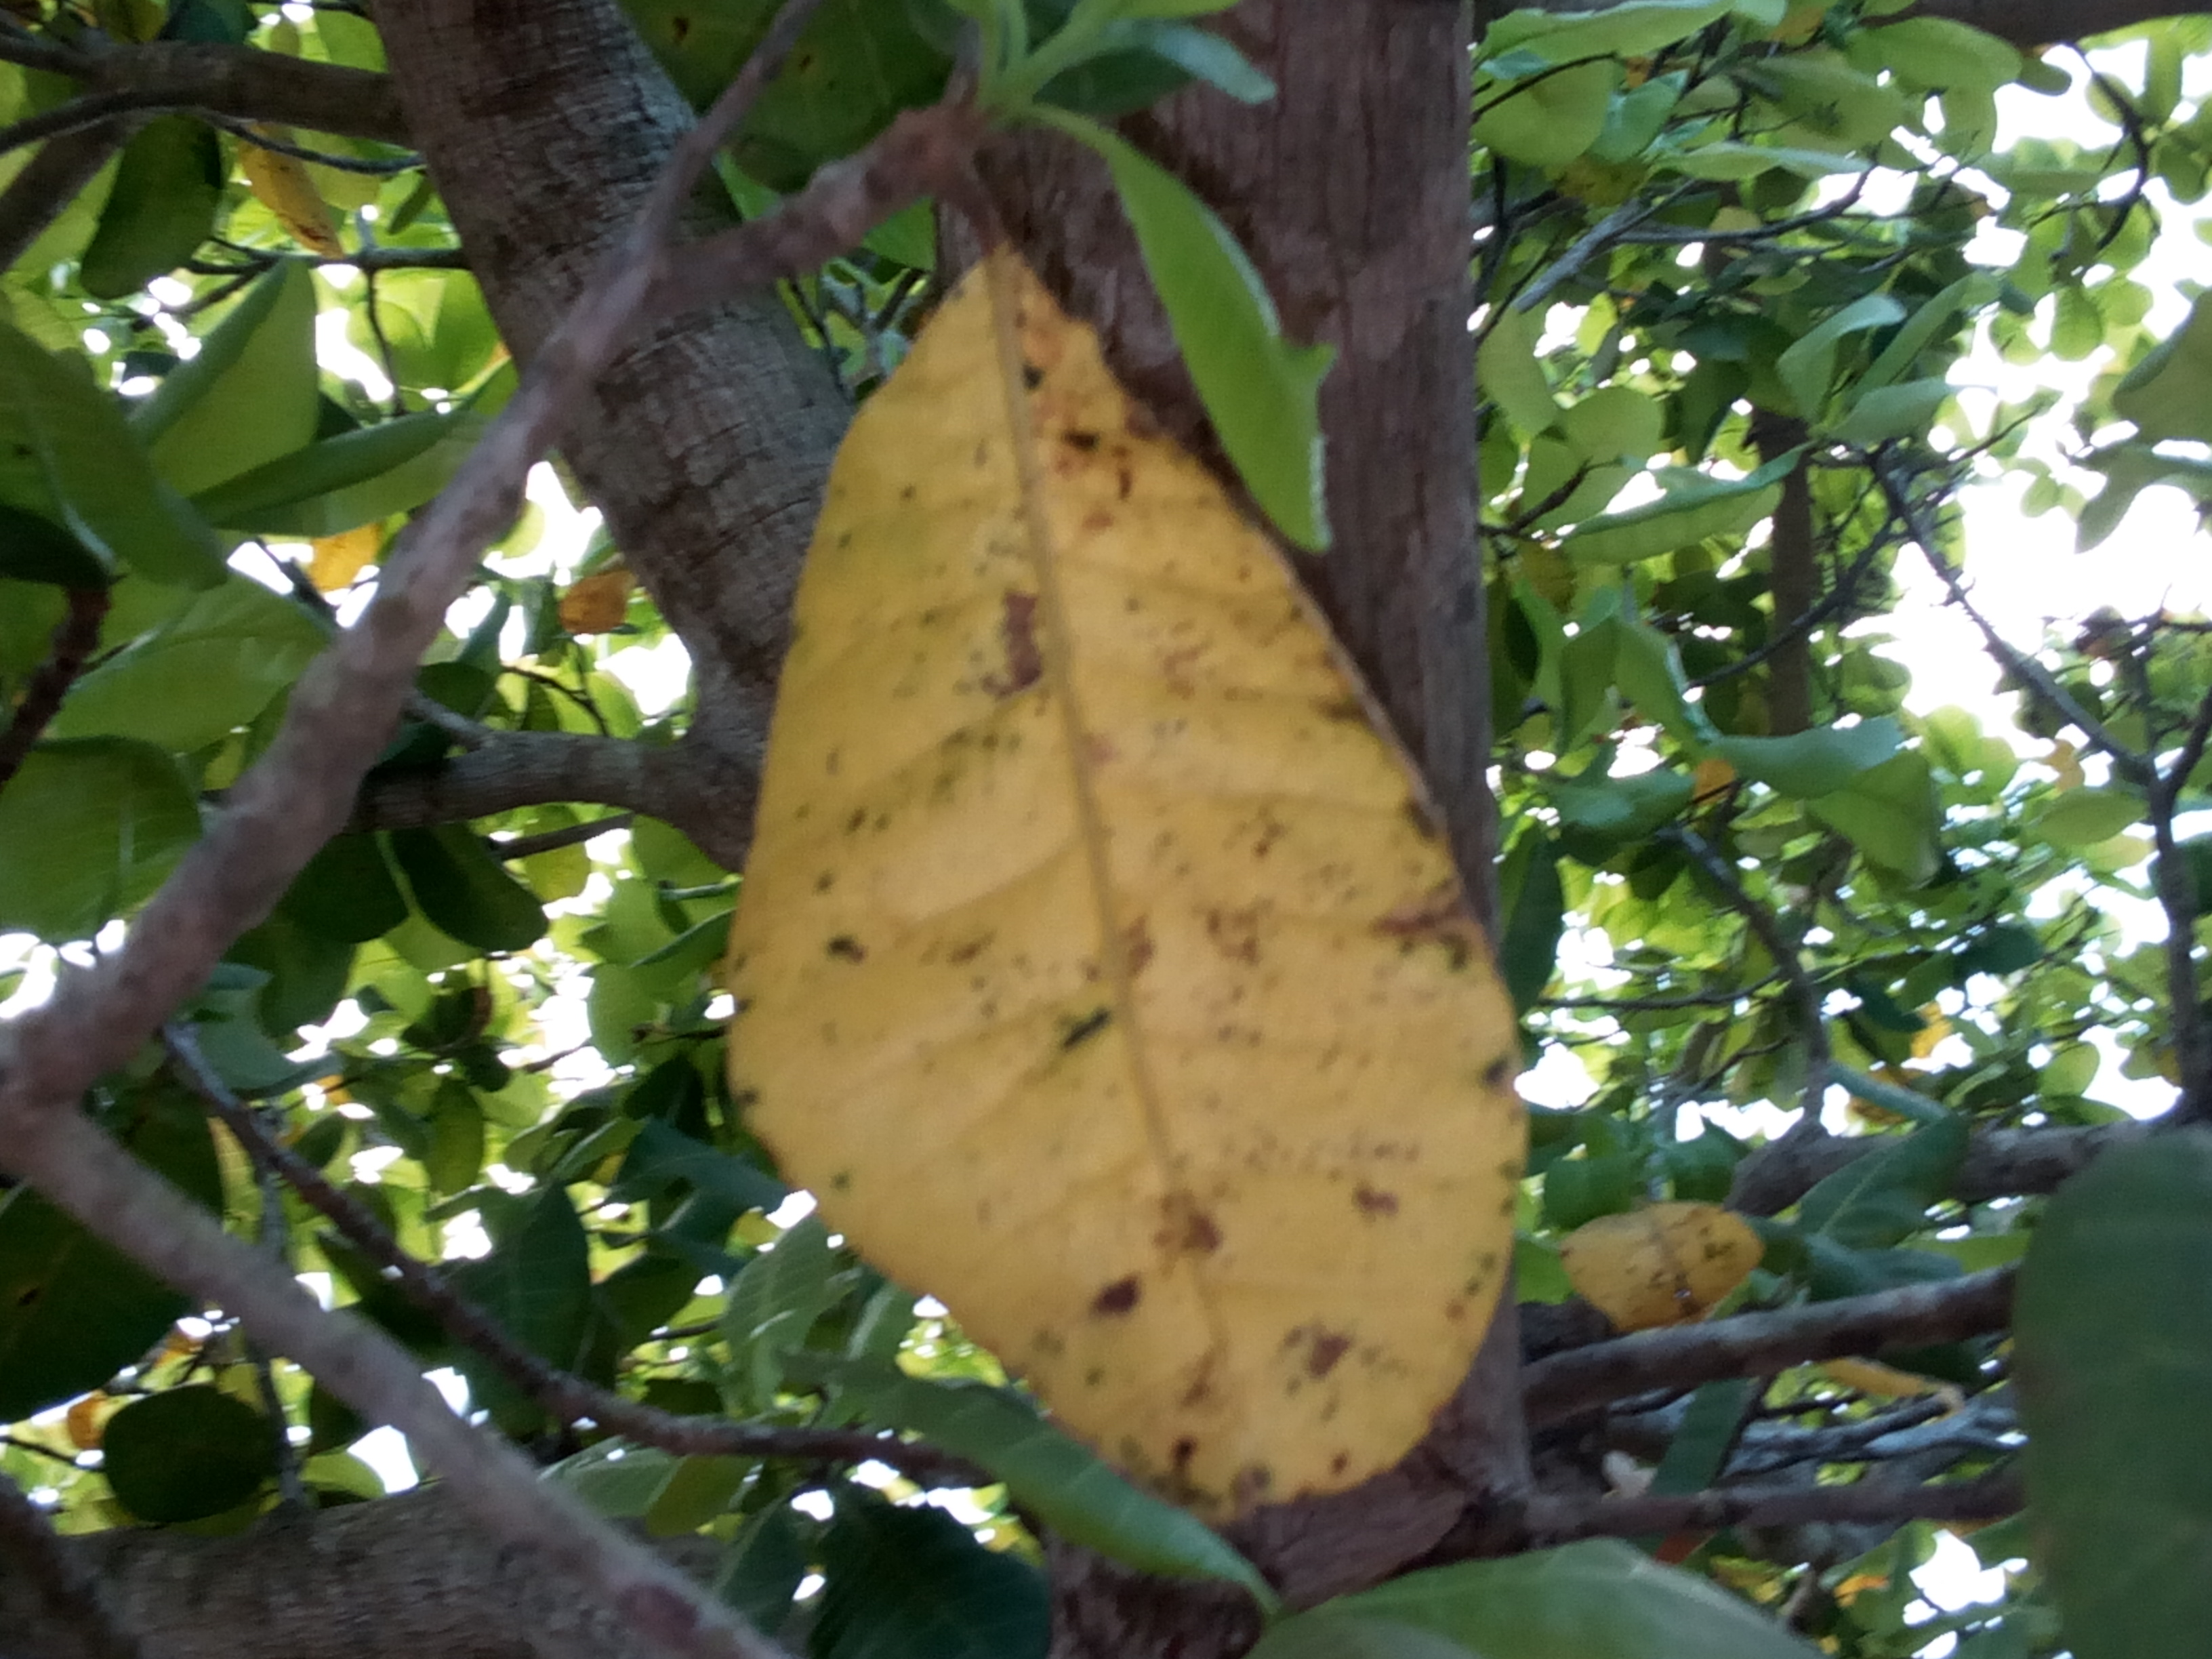Bactériose: (742, 254, 1510, 1481)
